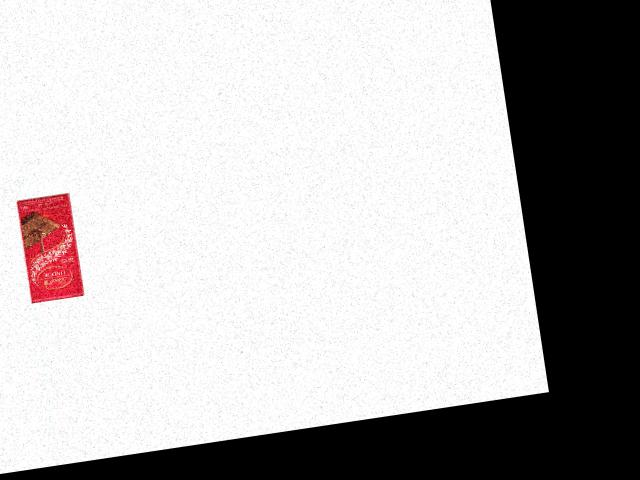chocolate: (11, 193, 86, 303)
